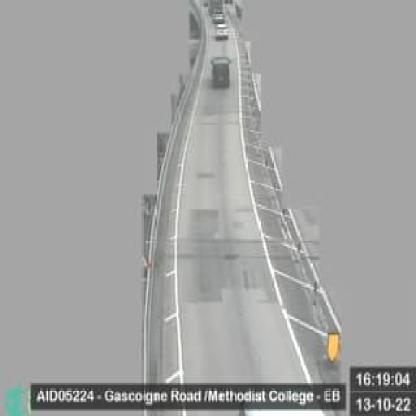Car: (210, 55, 232, 88), (216, 20, 228, 40)
